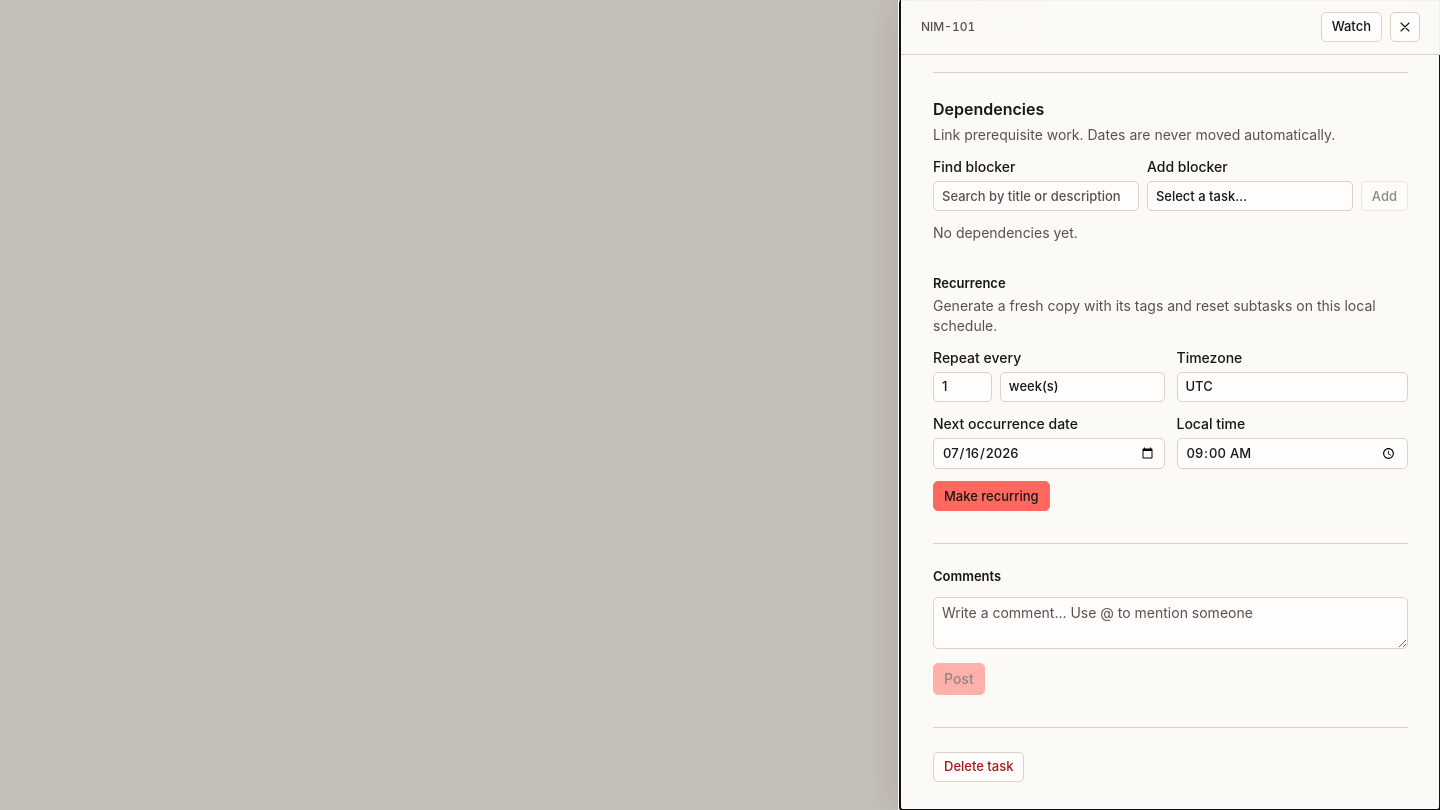
Test: TaskDrawer › delete is a two-step confirm: first click arms, Cancel disarms
(page scrolled)
Click the button "Delete task".
click(979, 767)  # box [933,752,1024,782]
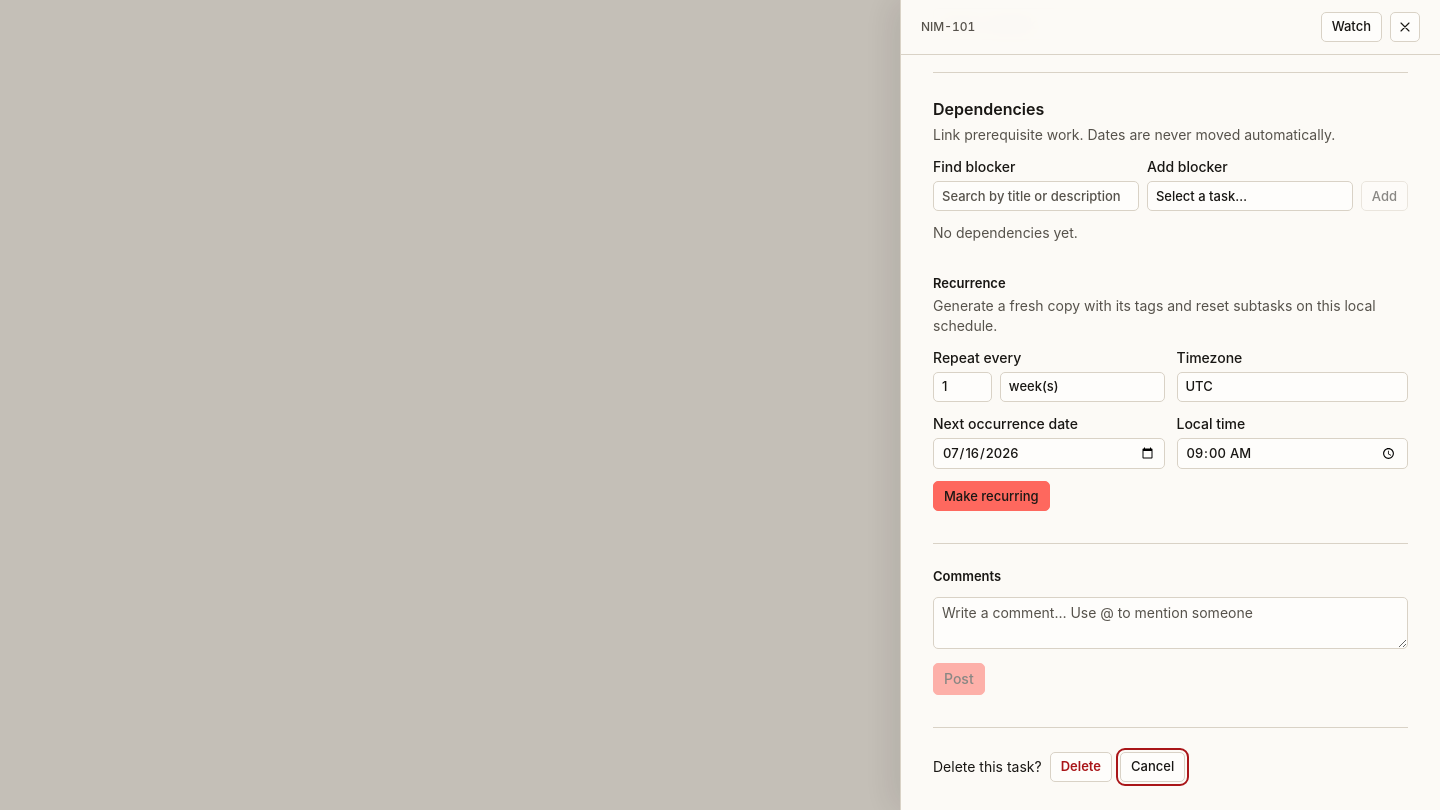
Expected: the text "Delete this task?" is shown, [933,757,1042,777]
Click the button "Cancel".
click(1153, 767)  # box [1120,752,1185,782]
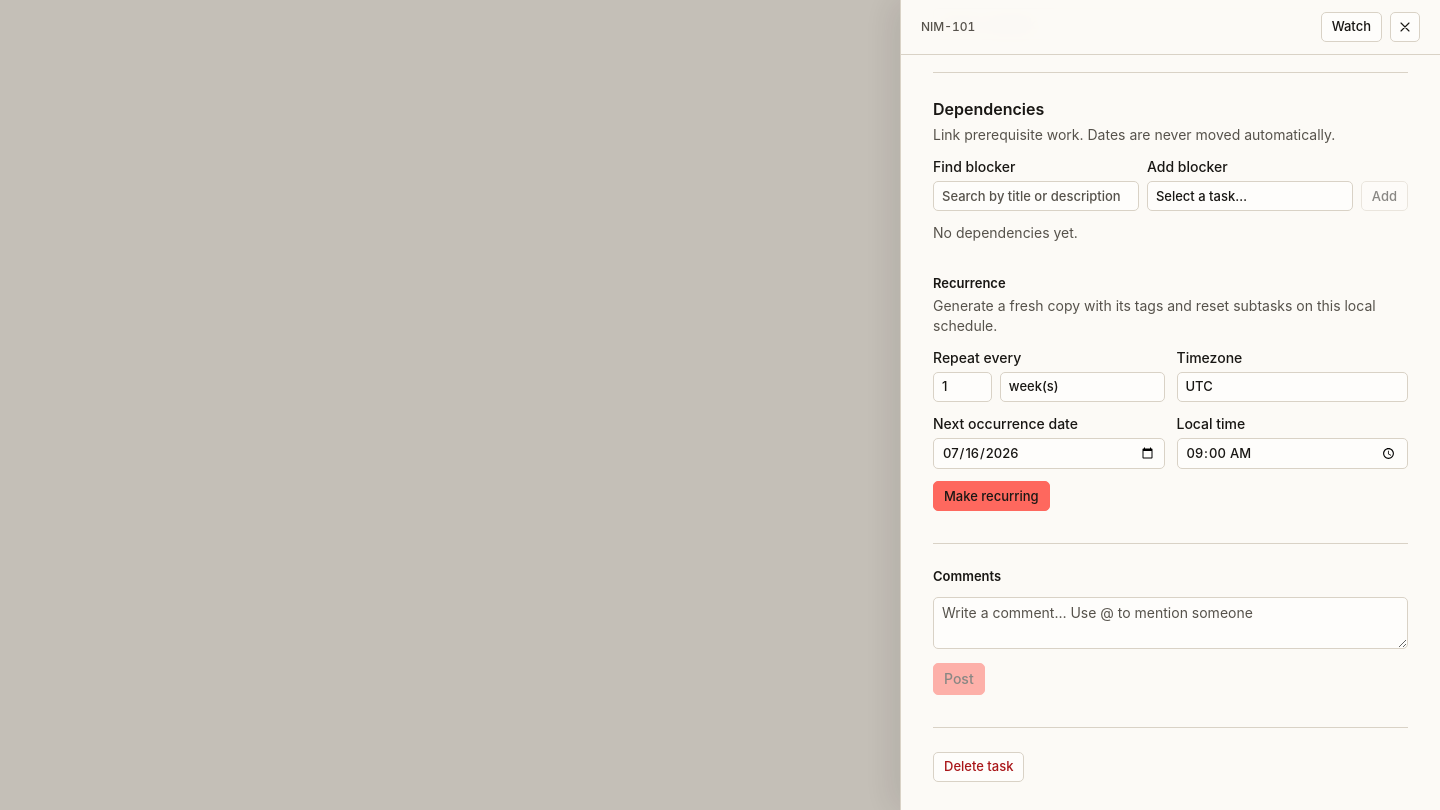
Expected: the text "Delete this task?" is gone
Expected: the button "Delete task" is shown, [933,752,1024,782]
